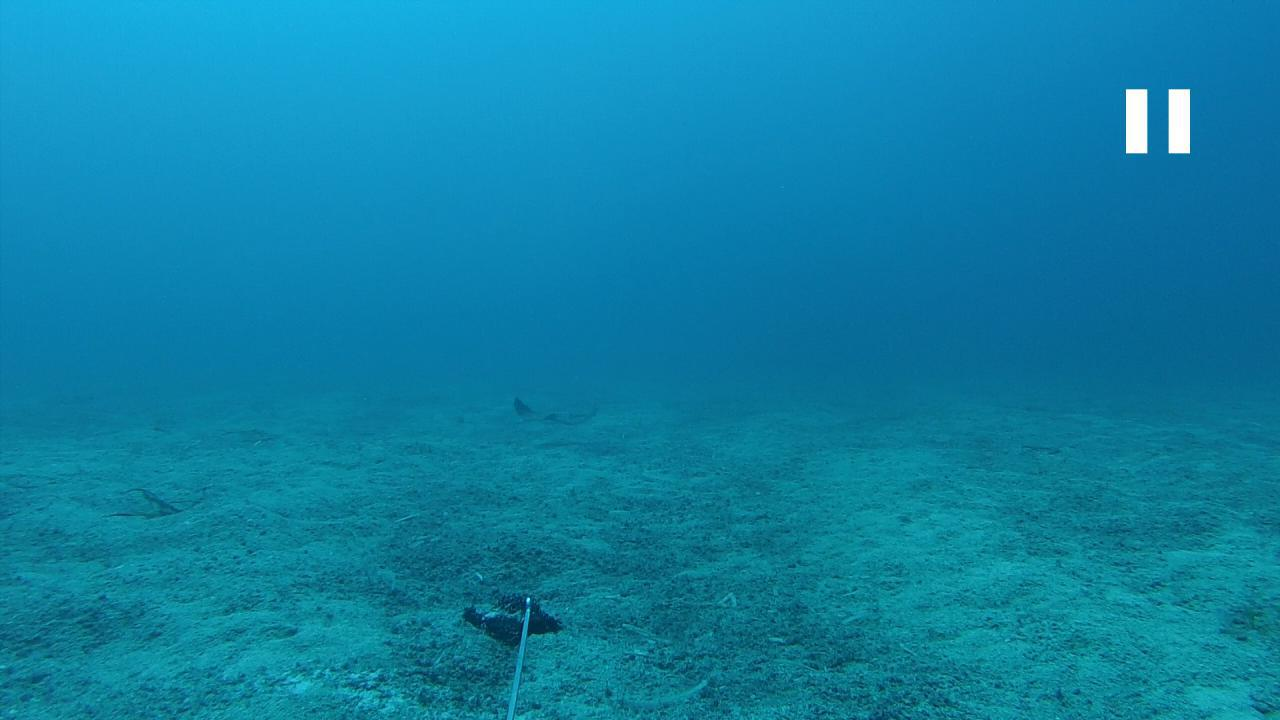dasyatis: (511, 395, 597, 426)
